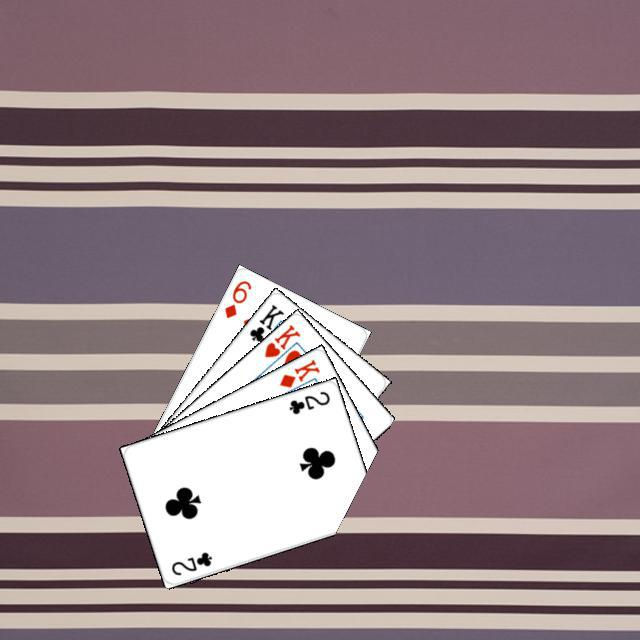2c: (166, 547, 214, 577), (284, 386, 331, 416)
6d: (219, 275, 253, 320)
Kc: (244, 299, 286, 352)
Kd: (274, 354, 322, 390)
Kh: (259, 319, 302, 369)
